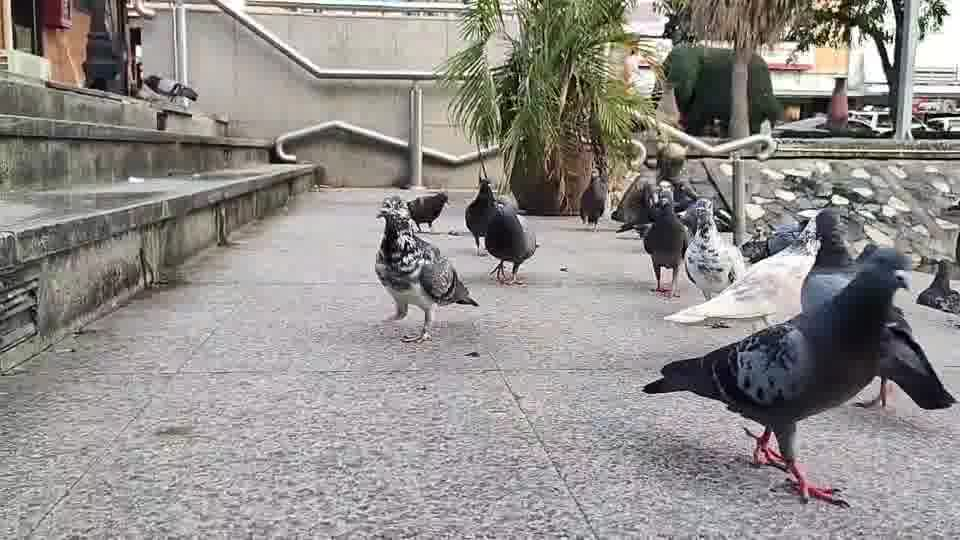Pigeon: (640, 242, 955, 508), (796, 207, 955, 410), (373, 196, 479, 343), (682, 197, 745, 301), (634, 195, 691, 298), (482, 199, 540, 285), (464, 175, 501, 256), (914, 258, 959, 314), (405, 188, 448, 232), (578, 169, 607, 231), (143, 74, 198, 102)
